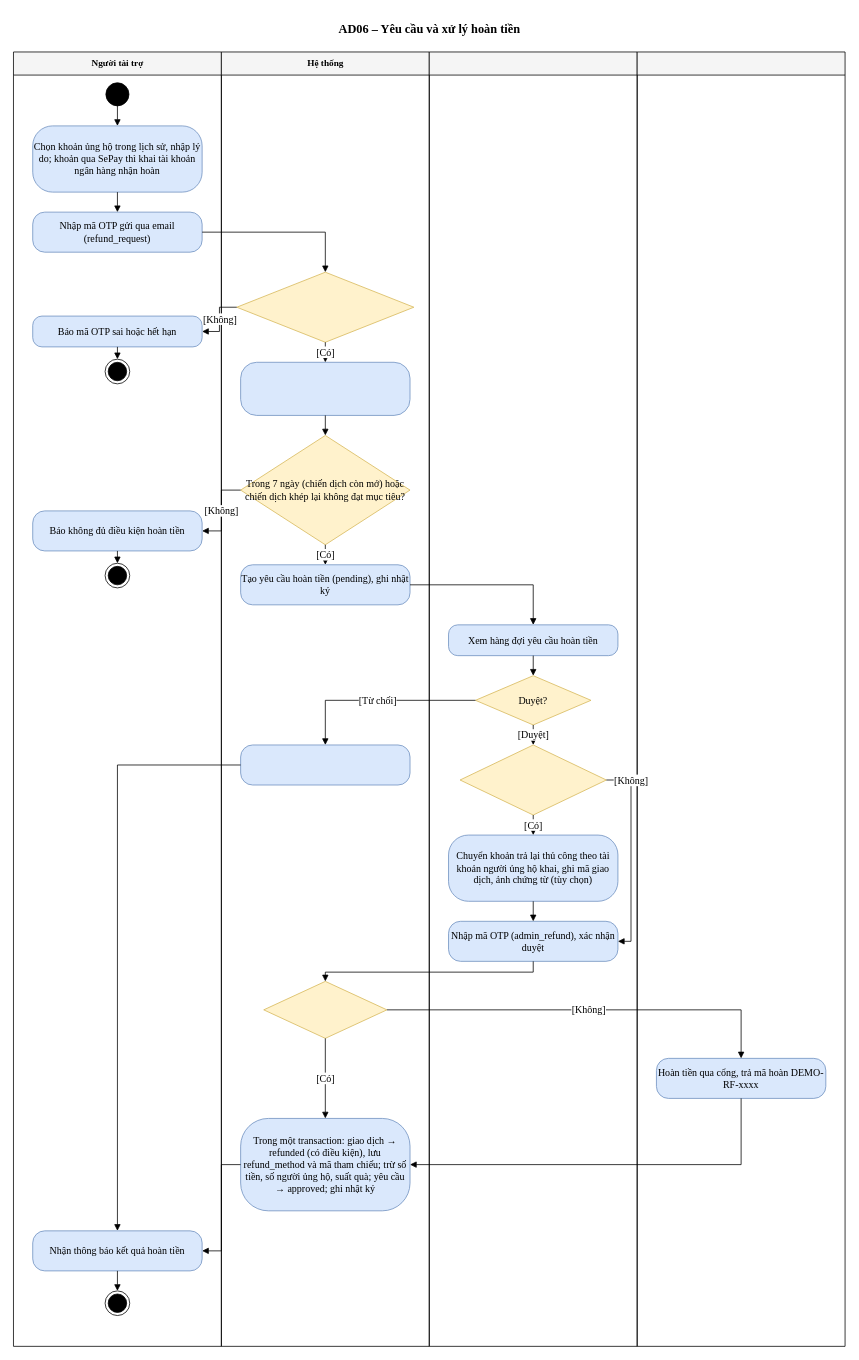
Image size: 859x1360. Some labels were removed from this diagram. Each missing label, with the box of its shape:
Cập nhật rejected, lưu ghi chú, ghi nhật ký: (240, 744, 410, 785)
Cổng thanh toán: (636, 51, 845, 1346)
Hoàn thủ công?: (263, 981, 387, 1038)
Khoản thanh toán qua SePay?: (459, 744, 606, 815)
Kiểm tra: khoản của chính mình, đã completed, chưa có yêu cầu đang chờ: (240, 362, 410, 415)
Mã OTP còn hạn, chưa dùng, sai < 5 lần?: (236, 271, 414, 342)
Quản trị viên: (429, 51, 637, 1346)
